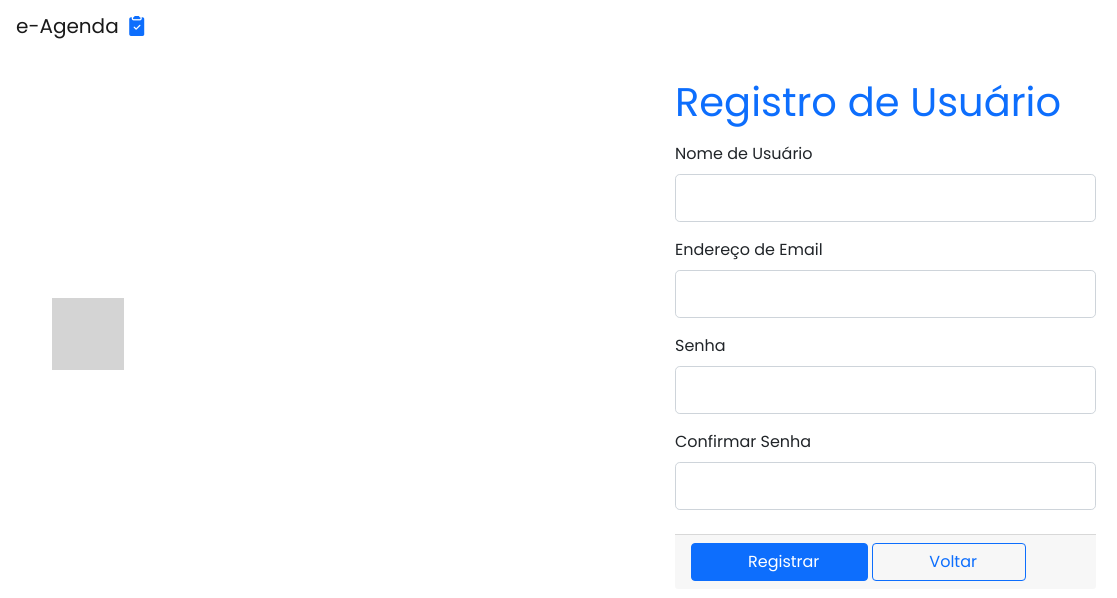
Test case: alguma coisa › Deve - Validar nome vazio
This screenshot has width=1117, height=598.
Focus the field named "nome" at (886, 198), box x1=675 y1=174 x2=1096 y2=222
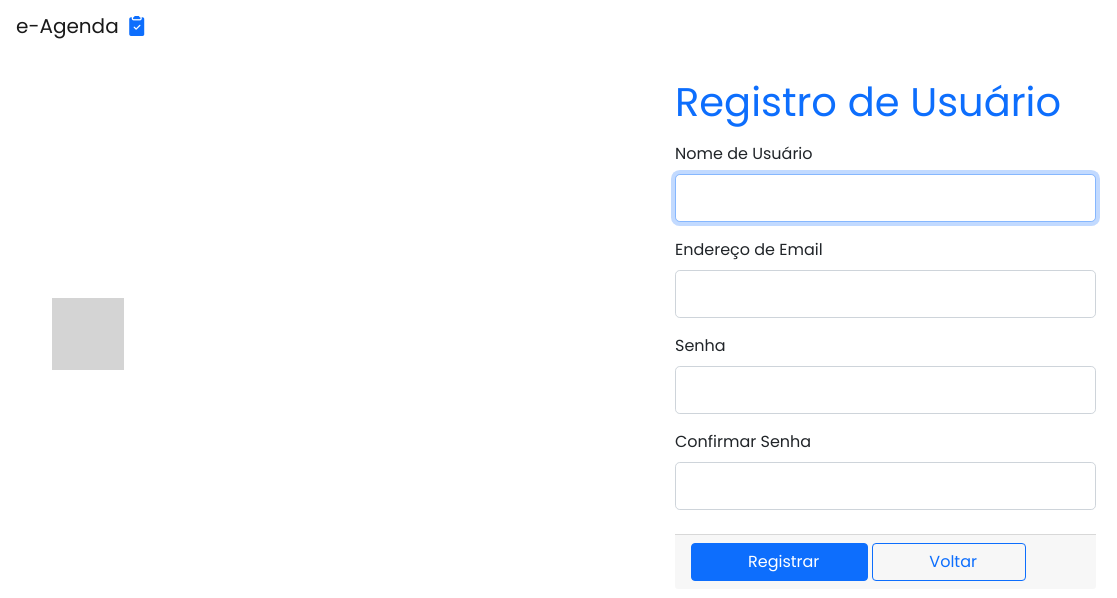
Type "cypress3@g.com" into the field named "email".
click(886, 294); type("cypress3@g.com")  # box x1=675 y1=270 x2=1096 y2=318
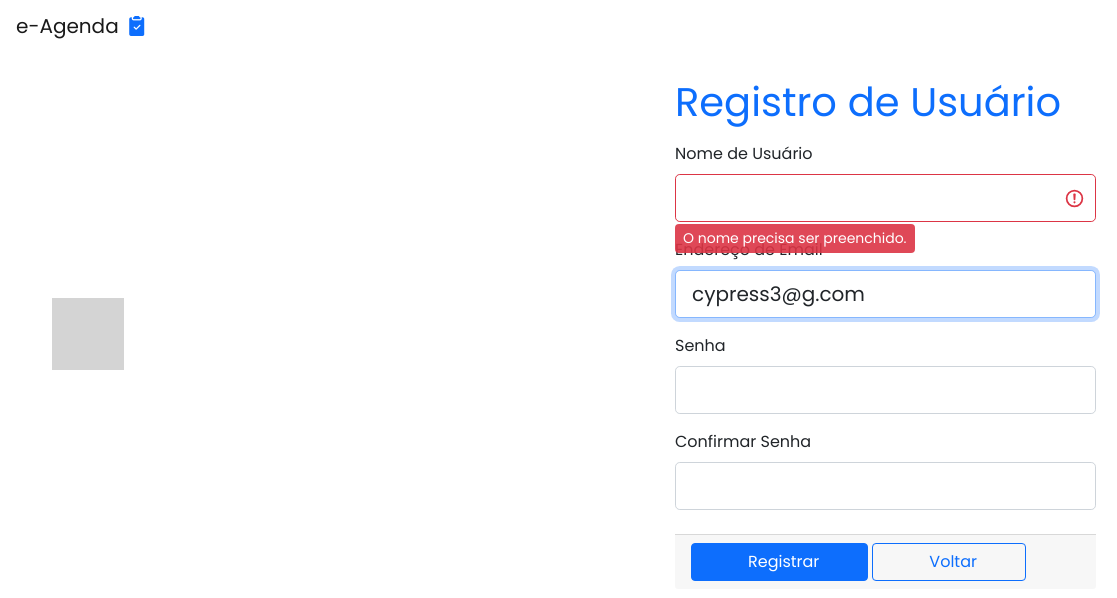
Result: the text "O nome precisa ser preenchido." is shown at x1=683 y1=228 x2=906 y2=248
